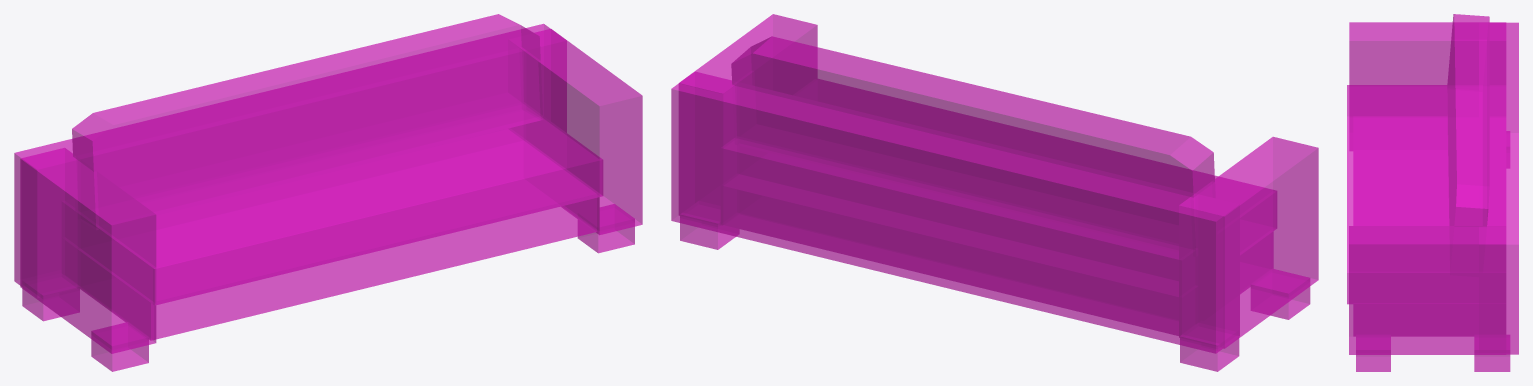
Rendered from SM_Prop_Sofa_01_Collision.fbx.
The picture shows the model from 3 angles, left to right: view 1: azimuth 30°, elevation 25°; view 2: azimuth 150°, elevation 25°; view 3: azimuth 270°, elevation 25°; orthographic projection. The views are drawn at different scales.
Parts seen in each view (by area): view 1: SM_Prop_Sofa_01_Collision; view 2: SM_Prop_Sofa_01_Collision; view 3: SM_Prop_Sofa_01_Collision.
Part boxes in pixels (left/top/right/bottom): SM_Prop_Sofa_01_Collision: left=14, top=14, right=642, bottom=371; SM_Prop_Sofa_01_Collision: left=671, top=14, right=1318, bottom=371; SM_Prop_Sofa_01_Collision: left=1347, top=14, right=1518, bottom=371.
Size of the model in its own units: 272 by 93.13 by 88.63.
